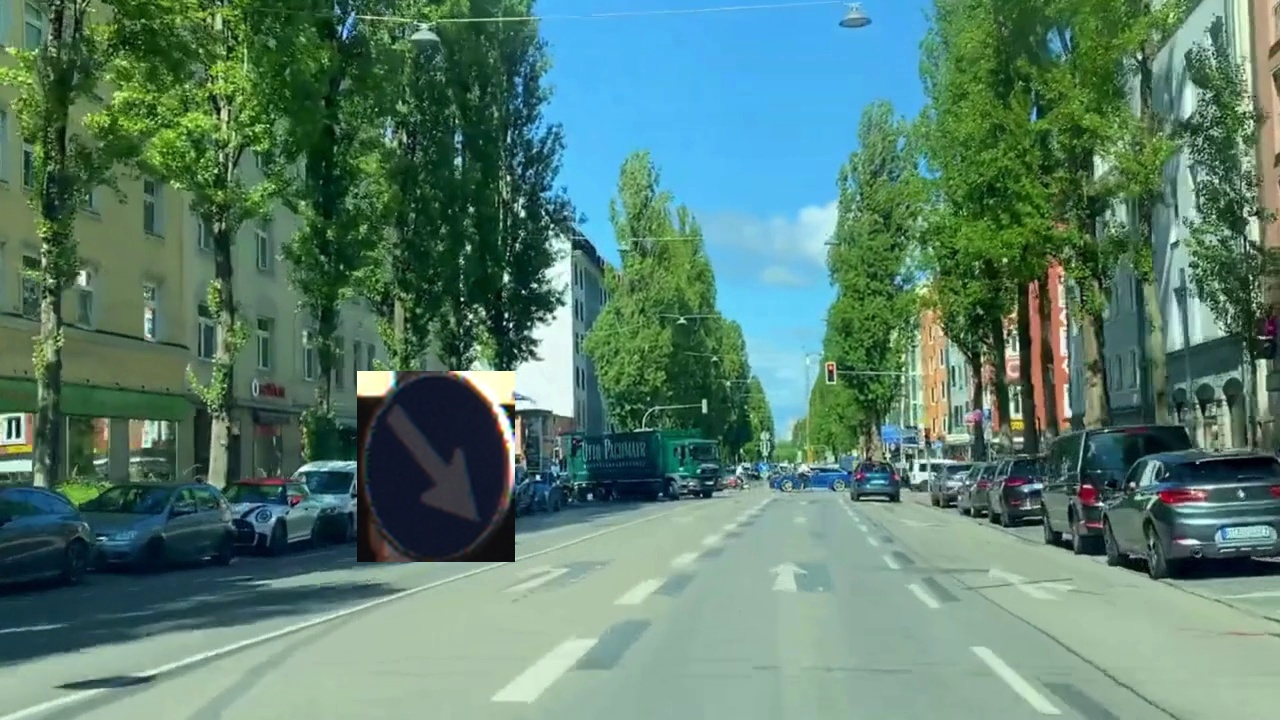Keep right: (357, 371, 515, 562)
